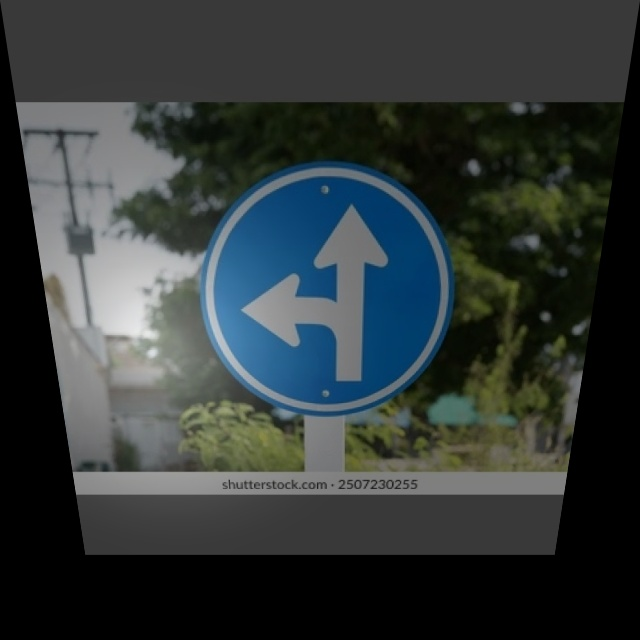Compulsory_Ahead_or_Turn_Left: (189, 167, 459, 413)
